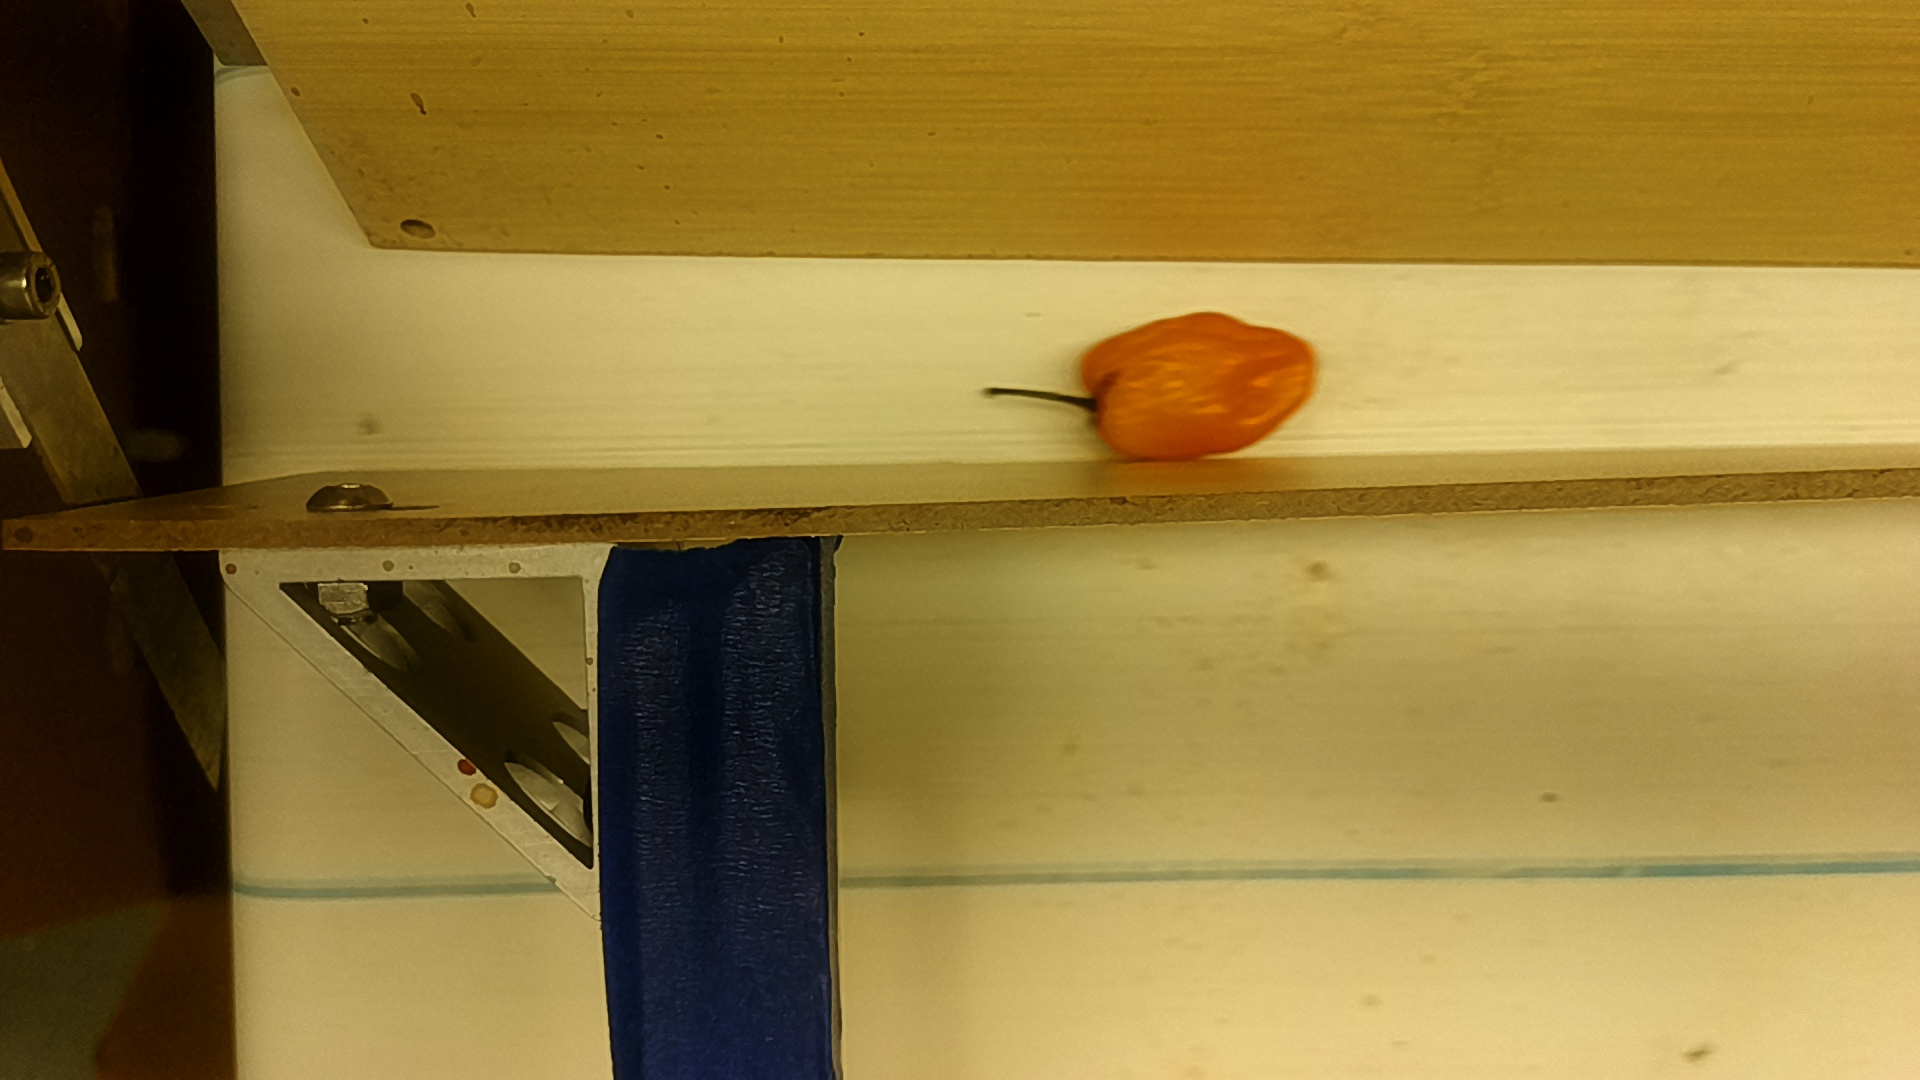Cut Point: (1083, 322, 1129, 468)
